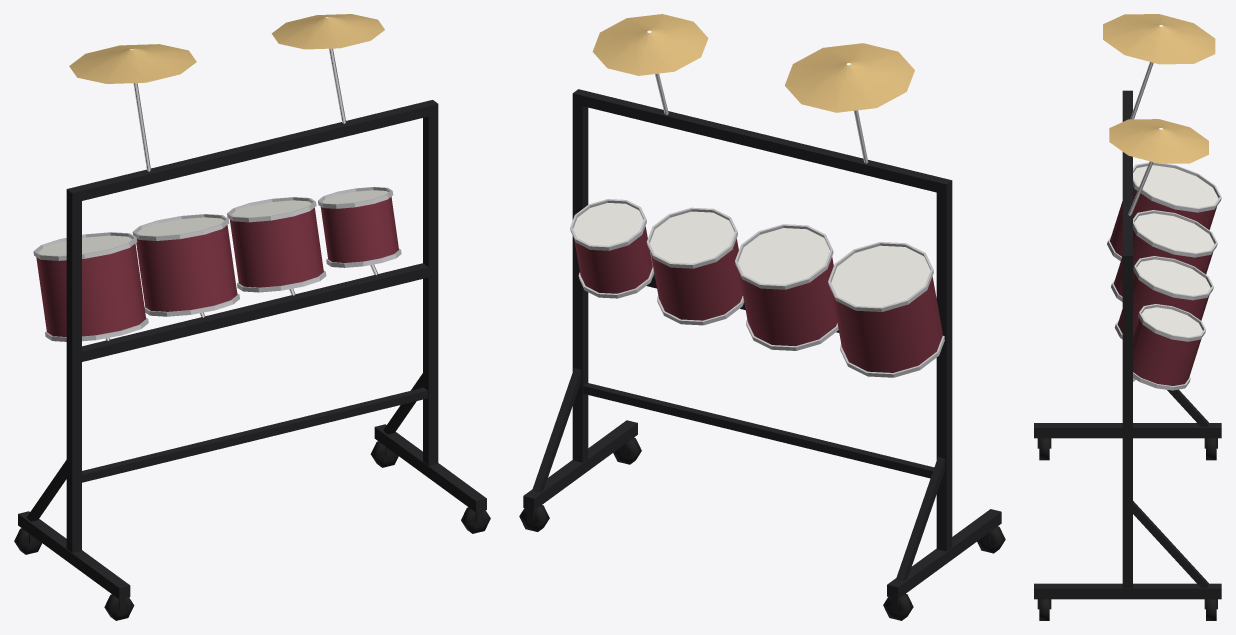
File: aux-rack-toms-low.glb
3 renders of one model, left to right at view 1: azimuth 30°, elevation 25°; view 2: azimuth 150°, elevation 25°; view 3: azimuth 270°, elevation 25°, orthographic. The views are drawn at different scales.
Parts seen in each view (by area): view 1: frame, shell, cymbal, metal, head, rubber; view 2: frame, shell, head, cymbal, metal, rubber; view 3: frame, cymbal, head, shell, metal, rubber.
Part boxes in pixels (bbox=[...]): frame: bbox=[18, 100, 486, 609]; shell: bbox=[36, 196, 398, 336]; cymbal: bbox=[69, 14, 384, 83]; metal: bbox=[33, 48, 401, 341]; head: bbox=[38, 190, 388, 255]; rubber: bbox=[14, 441, 490, 620]; frame: bbox=[523, 89, 1001, 609]; shell: bbox=[574, 226, 942, 372]; head: bbox=[573, 203, 930, 306]; cymbal: bbox=[592, 14, 914, 112]; metal: bbox=[570, 73, 944, 377]; rubber: bbox=[519, 437, 1005, 620]; frame: bbox=[1034, 90, 1221, 609]; cymbal: bbox=[1103, 14, 1215, 163]; head: bbox=[1133, 165, 1218, 336]; shell: bbox=[1110, 186, 1216, 385]; metal: bbox=[1107, 62, 1221, 390]; rubber: bbox=[1039, 438, 1216, 620].
Size of the model in its own units: 1.56 by 1.97 by 0.7207.
